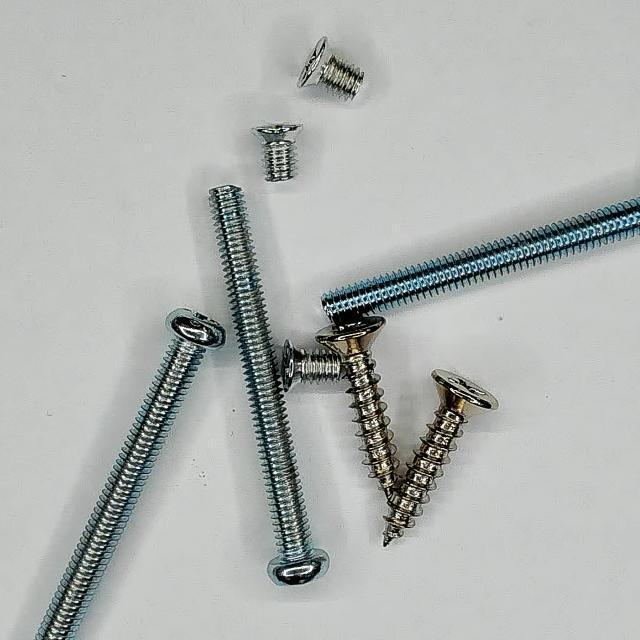Screw: (35, 309, 225, 640), (210, 185, 330, 586), (322, 198, 640, 324), (385, 370, 500, 548), (316, 316, 399, 500), (297, 36, 365, 100), (282, 340, 345, 392), (252, 123, 303, 182)
